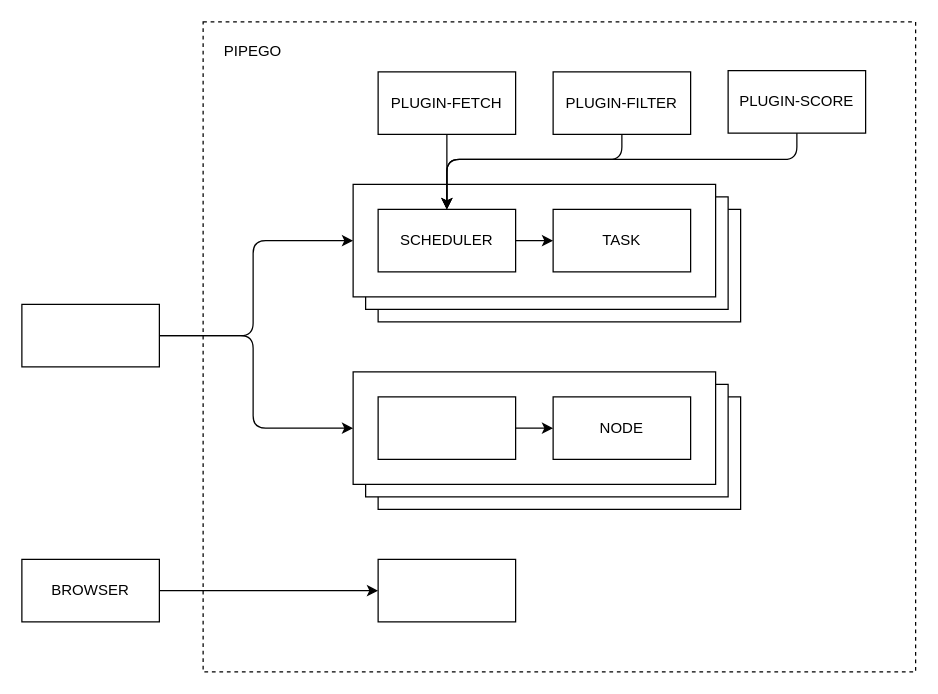
Some shapes in this 938 by 694 pixel diagram are drawn without their labels. Each missing label, with the box of its shape:
PIPELINE: (21, 303, 159, 367)
RUNNER: (377, 396, 516, 459)
WEB: (377, 558, 516, 622)
